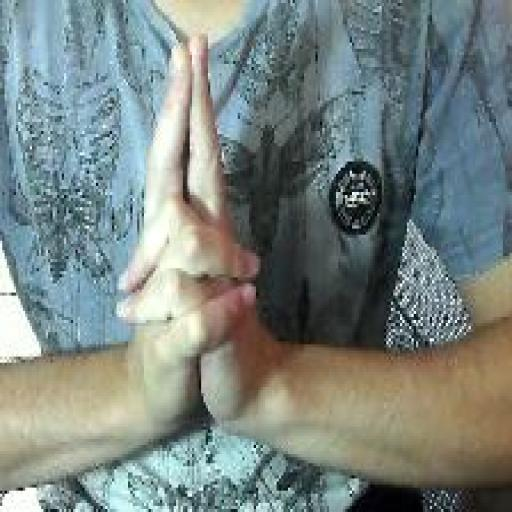Tora -tiger-: (113, 27, 264, 448)
